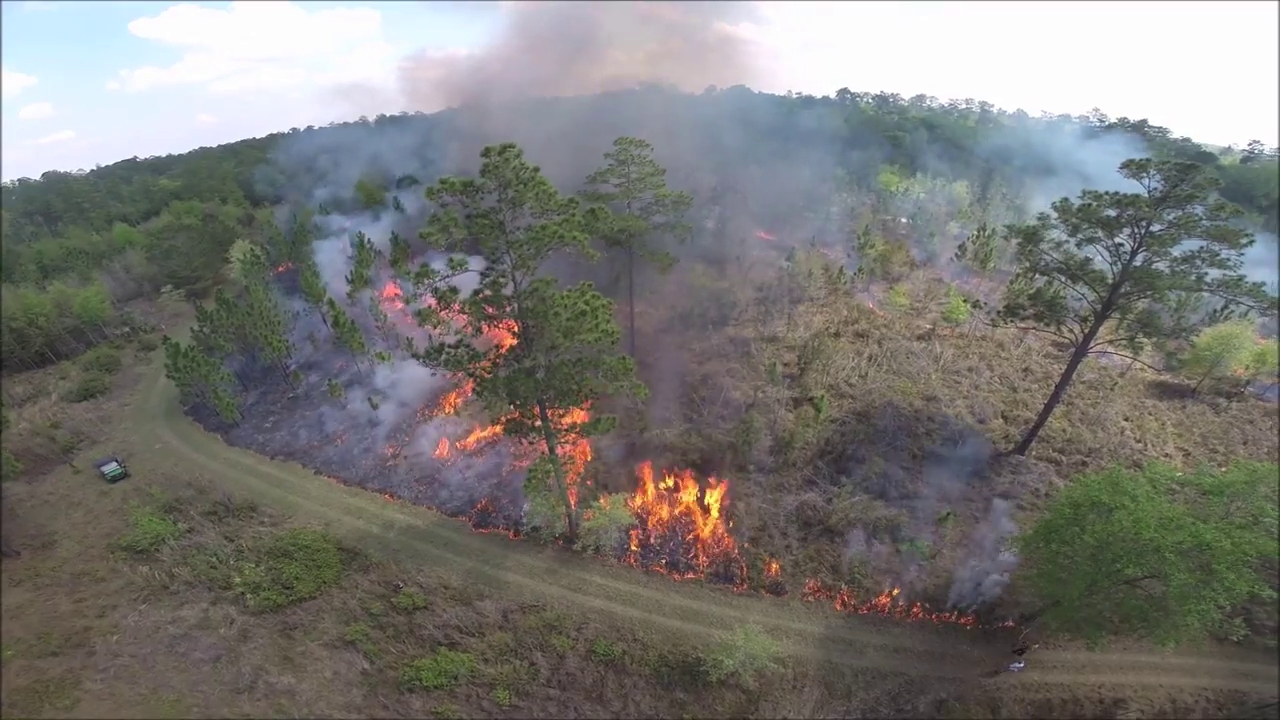forest_fire: (618, 461, 746, 589), (801, 579, 977, 626), (432, 417, 506, 463), (556, 434, 591, 508), (418, 376, 471, 419), (465, 499, 520, 536), (378, 281, 415, 322), (755, 557, 785, 593), (507, 444, 544, 470), (477, 328, 514, 353), (552, 407, 589, 428), (450, 318, 463, 328), (384, 445, 398, 454), (1000, 623, 1010, 625), (427, 300, 429, 301)
